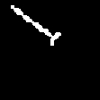half_double_crochet: (11, 5, 60, 44)
